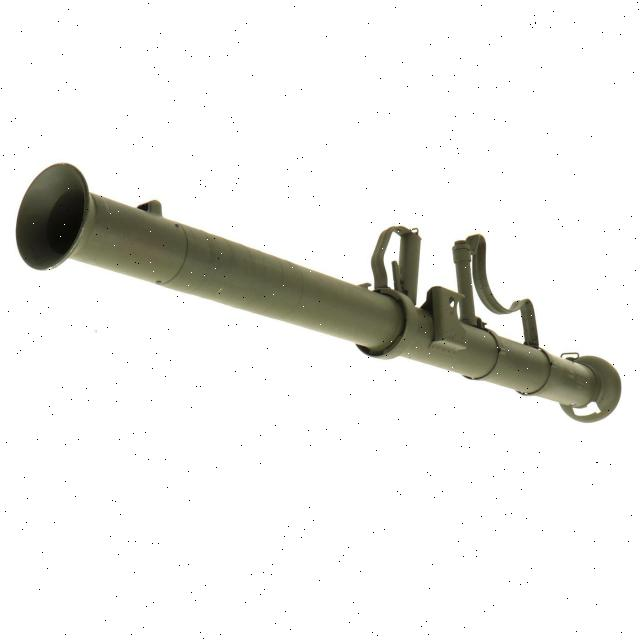bazooka: (12, 152, 631, 432)
